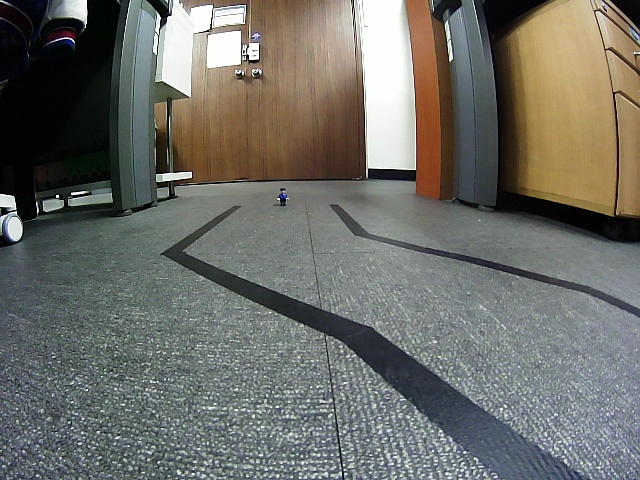person: (276, 188, 291, 206)
